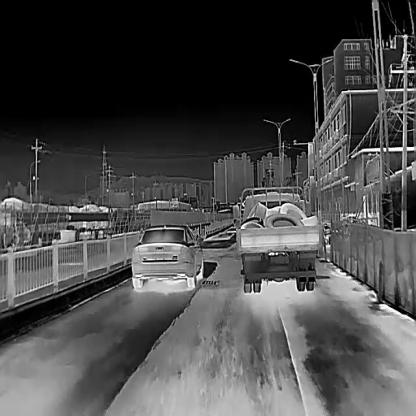car: (131, 224, 203, 288)
truck: (236, 186, 322, 293)
